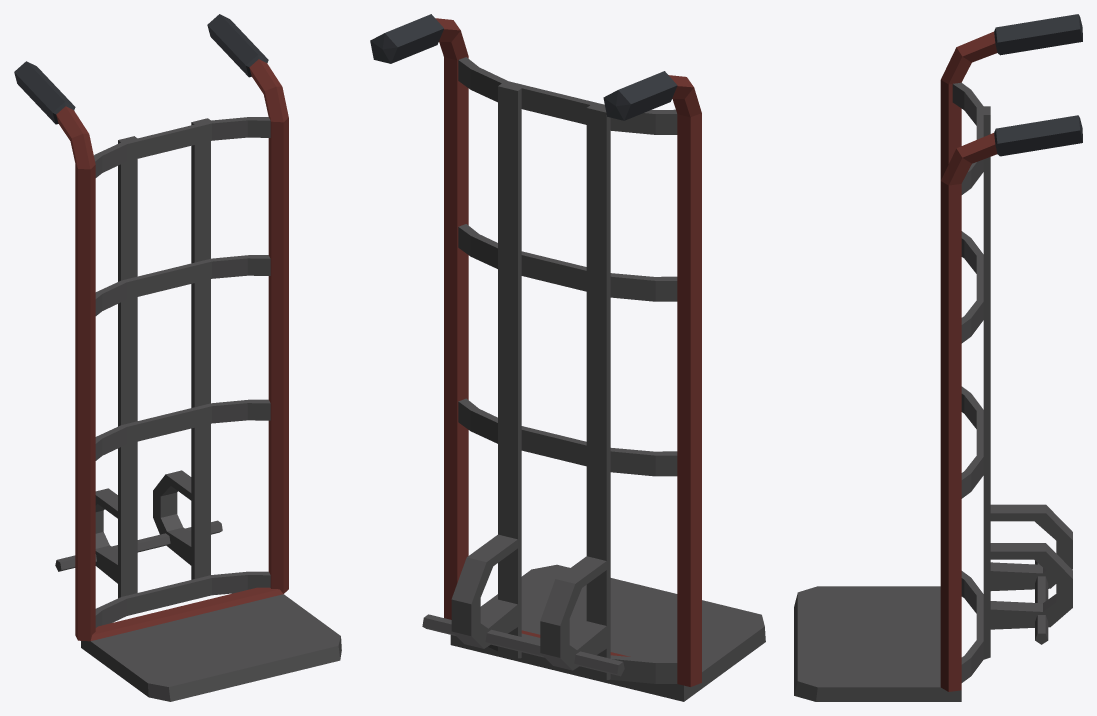
Rendered from SM_Prop_HandTrolley_01.obj.
3 views of the same model, side by side, from view 1: azimuth 30°, elevation 25°; view 2: azimuth 150°, elevation 25°; view 3: azimuth 270°, elevation 25° (orthographic). The views are drawn at different scales.
Parts seen in each view (by area): view 1: SM_Prop_HandTrolley_01_0; view 2: SM_Prop_HandTrolley_01_0; view 3: SM_Prop_HandTrolley_01_0.
Part boxes in pixels (<box>): SM_Prop_HandTrolley_01_0: <box>14,14,341,701</box>; SM_Prop_HandTrolley_01_0: <box>370,14,765,701</box>; SM_Prop_HandTrolley_01_0: <box>794,14,1082,701</box>.
Bounding box in the file's own units: 0.661 × 1.6 × 0.7127.
1 material, 1 textured.
